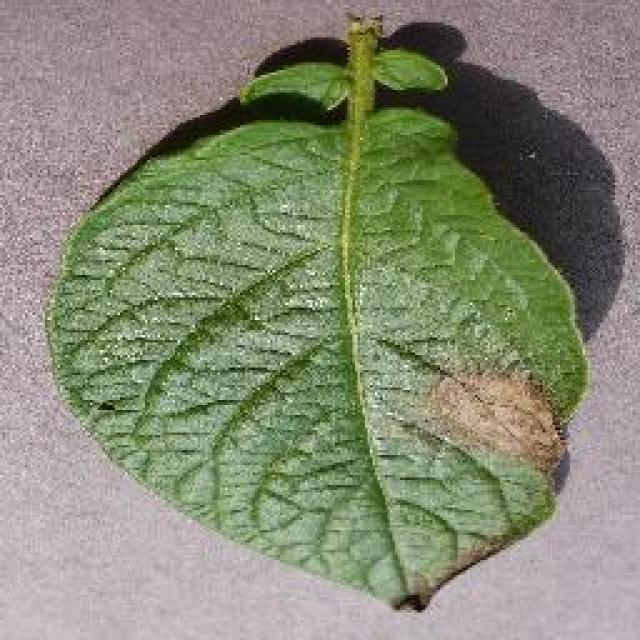Potato___Late_blight: (46, 16, 593, 614)
